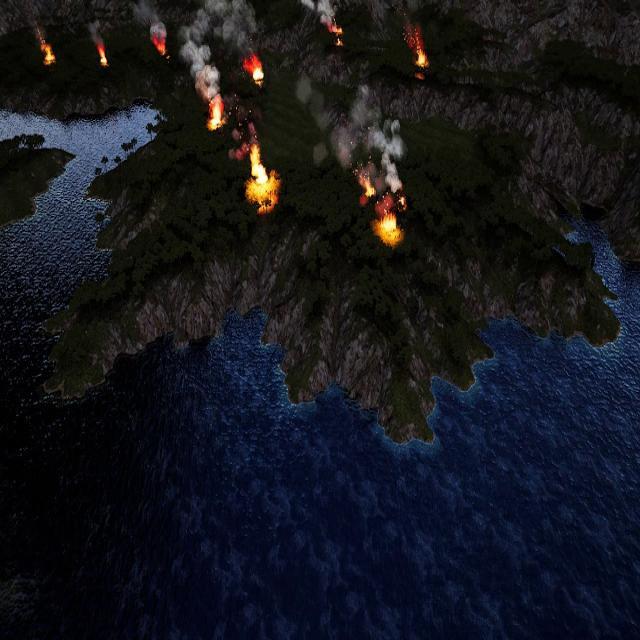fire: (248, 148, 278, 206), (356, 166, 378, 200), (410, 33, 430, 70), (379, 215, 400, 244), (246, 57, 264, 86), (208, 99, 224, 129), (153, 36, 170, 61), (40, 39, 55, 64), (98, 44, 107, 64), (338, 38, 345, 46)
smoke: (293, 78, 405, 200), (176, 0, 256, 97), (132, 0, 167, 44), (292, 0, 334, 29), (88, 20, 105, 50)
